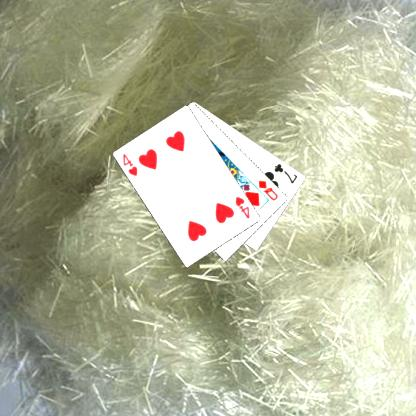4H: (120, 151, 139, 177), (233, 194, 251, 220)
7C: (272, 161, 299, 185)
QD: (256, 178, 279, 202)
